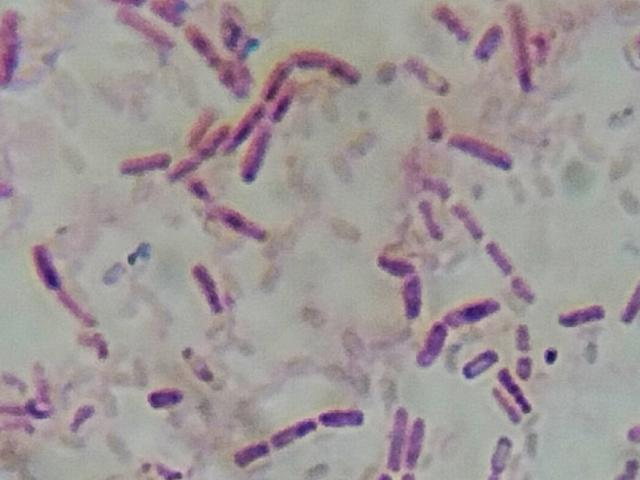E. coli: (26, 248, 88, 319), (169, 106, 229, 176), (183, 20, 235, 86), (447, 131, 517, 171), (114, 4, 173, 51), (295, 44, 360, 85), (510, 5, 538, 91), (444, 198, 492, 245), (0, 11, 28, 91), (215, 199, 264, 243), (241, 132, 277, 182), (477, 437, 516, 480), (318, 401, 369, 433), (415, 322, 448, 371), (268, 416, 319, 447), (193, 261, 223, 313), (178, 341, 214, 384), (120, 150, 175, 177), (556, 301, 609, 329), (450, 292, 493, 326), (410, 52, 446, 92), (499, 368, 529, 413), (414, 199, 443, 243), (229, 439, 272, 467), (438, 0, 471, 36), (389, 404, 408, 466), (373, 251, 416, 278), (482, 238, 513, 275), (229, 102, 256, 144), (605, 449, 640, 480), (459, 346, 495, 376), (67, 399, 96, 436), (406, 412, 423, 471), (476, 19, 497, 65), (490, 387, 515, 425), (264, 56, 290, 92), (402, 275, 425, 315), (148, 385, 184, 410), (190, 177, 219, 206), (510, 319, 533, 351), (423, 106, 441, 143), (621, 408, 640, 443), (514, 279, 536, 309), (278, 91, 296, 123)
